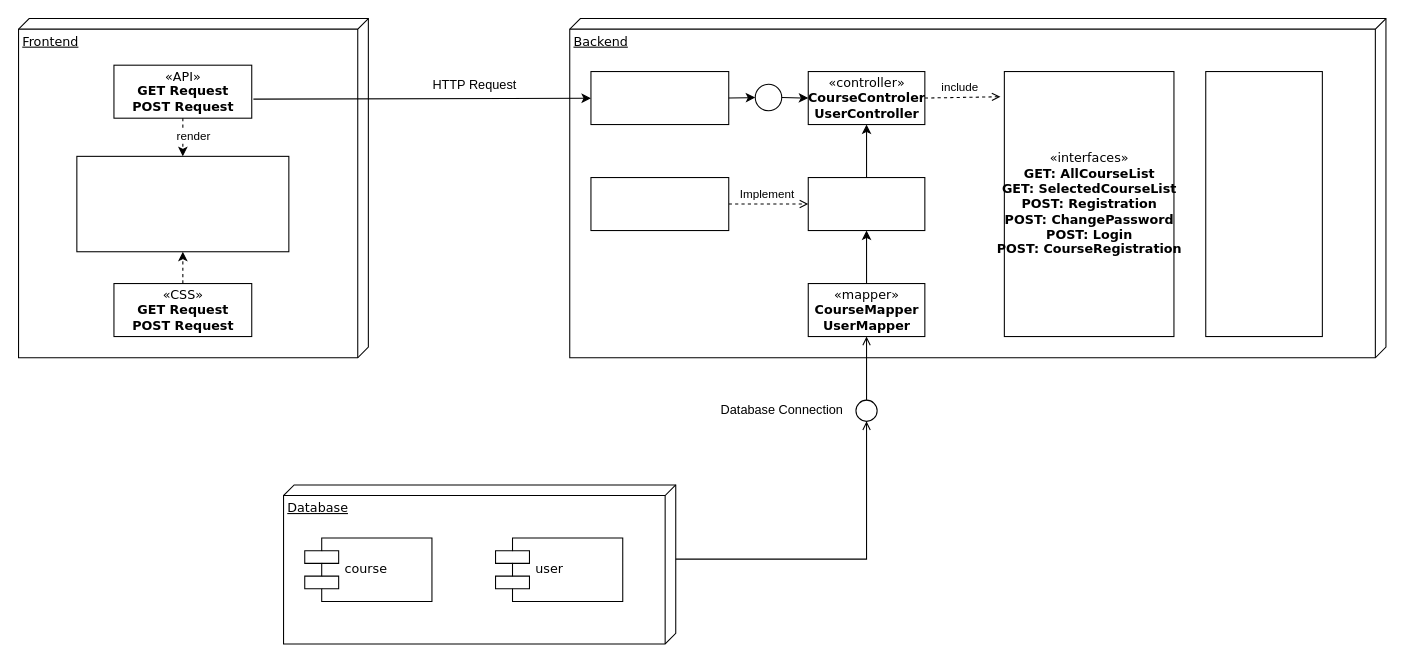
Some shapes in this 1404 by 662 pixel diagram are drawn without their labels. Each missing label, with the centre of its shape:
«CommonUtils» Exception ReturnType Constants: (1263,203)
«interface» GET Endpoint POST Endpoint: (659,97)
«Page» Login Register/ChangePassword CourseList CourseSelect: (182,203)
«serviceImpl» CourseServiceImpl UserServiceImpl: (659,203)
«service» CourseService UserService: (866,203)
